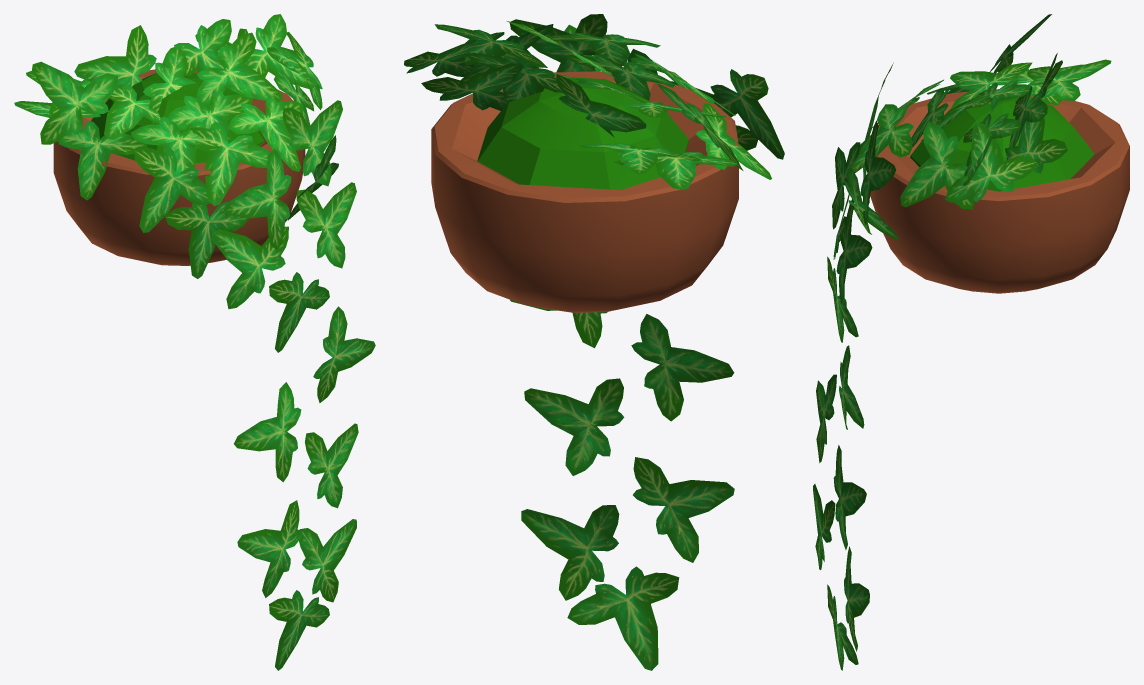
Rendered from stylized_potted_ivy.glb.
The picture shows the model from 3 angles, left to right: view 1: azimuth 30°, elevation 25°; view 2: azimuth 150°, elevation 25°; view 3: azimuth 270°, elevation 25°; orthographic projection. The views are drawn at different scales.
Visible parts, largest first — view 1: ivy_pot, Ivy_leaf_b_01, Ivy_leaf_a_10, Ivy_leaf_b_04, Ivy_leaf_a_09, Ivy_leaf_a_11, Ivy_leaf_b_11, Ivy_leaf_b_12, Ivy_leaf_b_10, Ivy_leaf_a_01, Ivy_leaf_b_02, Ivy_leaf_a_14 (+18 smaller); view 2: ivy_pot, ivy_sphere, Ivy_leaf_a_15, Ivy_leaf_b_13, Ivy_leaf_a_16, Ivy_leaf_a_14, Ivy_leaf_b_12, Ivy_leaf_a_10, Ivy_leaf_a_03, Ivy_leaf_b_09, Ivy_leaf_a_05, Ivy_leaf_a_04 (+11 smaller); view 3: ivy_pot, ivy_sphere, Ivy_leaf_a_18, Ivy_leaf_b_03, Ivy_leaf_b_08, Ivy_leaf_a_03, Ivy_leaf_b_05, Ivy_leaf_a_06, Ivy_leaf_b_13, Ivy_leaf_b_10, Ivy_leaf_b_09, Ivy_leaf_a_17 (+13 smaller).
Part boxes in pixels (left/top/right/bottom): ivy_pot: left=53, top=69, right=305, bottom=265; Ivy_leaf_b_01: left=32, top=61, right=118, bottom=144; Ivy_leaf_a_10: left=134, top=147, right=209, bottom=232; Ivy_leaf_b_04: left=196, top=32, right=282, bottom=106; Ivy_leaf_a_09: left=212, top=226, right=288, bottom=309; Ivy_leaf_a_11: left=180, top=122, right=270, bottom=205; Ivy_leaf_b_11: left=224, top=148, right=291, bottom=250; Ivy_leaf_b_12: left=234, top=382, right=301, bottom=482; Ivy_leaf_b_10: left=296, top=182, right=356, bottom=268; Ivy_leaf_a_01: left=164, top=198, right=248, bottom=278; Ivy_leaf_b_02: left=58, top=120, right=147, bottom=200; Ivy_leaf_a_14: left=237, top=500, right=302, bottom=597; ivy_pot: left=431, top=71, right=738, bottom=312; ivy_sphere: left=477, top=77, right=688, bottom=190; Ivy_leaf_a_15: left=567, top=566, right=679, bottom=670; Ivy_leaf_b_13: left=524, top=378, right=624, bottom=475; Ivy_leaf_a_16: left=521, top=505, right=619, bottom=600; Ivy_leaf_a_14: left=633, top=457, right=734, bottom=562; Ivy_leaf_b_12: left=631, top=314, right=734, bottom=421; Ivy_leaf_a_10: left=710, top=69, right=784, bottom=159; Ivy_leaf_a_03: left=421, top=63, right=523, bottom=110; Ivy_leaf_b_09: left=509, top=14, right=607, bottom=72; Ivy_leaf_a_05: left=556, top=74, right=646, bottom=137; Ivy_leaf_a_04: left=466, top=53, right=563, bottom=104; ivy_pot: left=870, top=89, right=1129, bottom=293; ivy_sphere: left=910, top=96, right=1094, bottom=191; Ivy_leaf_a_18: left=945, top=123, right=1038, bottom=202; Ivy_leaf_b_03: left=900, top=121, right=974, bottom=209; Ivy_leaf_b_08: left=850, top=104, right=913, bottom=173; Ivy_leaf_a_03: left=1005, top=97, right=1067, bottom=173; Ivy_leaf_b_05: left=1027, top=59, right=1111, bottom=100; Ivy_leaf_a_06: left=950, top=62, right=1032, bottom=109; Ivy_leaf_b_13: left=833, top=445, right=866, bottom=549; Ivy_leaf_b_10: left=836, top=199, right=872, bottom=302; Ivy_leaf_b_09: left=860, top=120, right=895, bottom=225; Ivy_leaf_a_17: left=963, top=113, right=1021, bottom=185.
Bounding box in the file's own units: 0.1022 × 0.2052 × 0.0995.
1 material, 1 textured.
